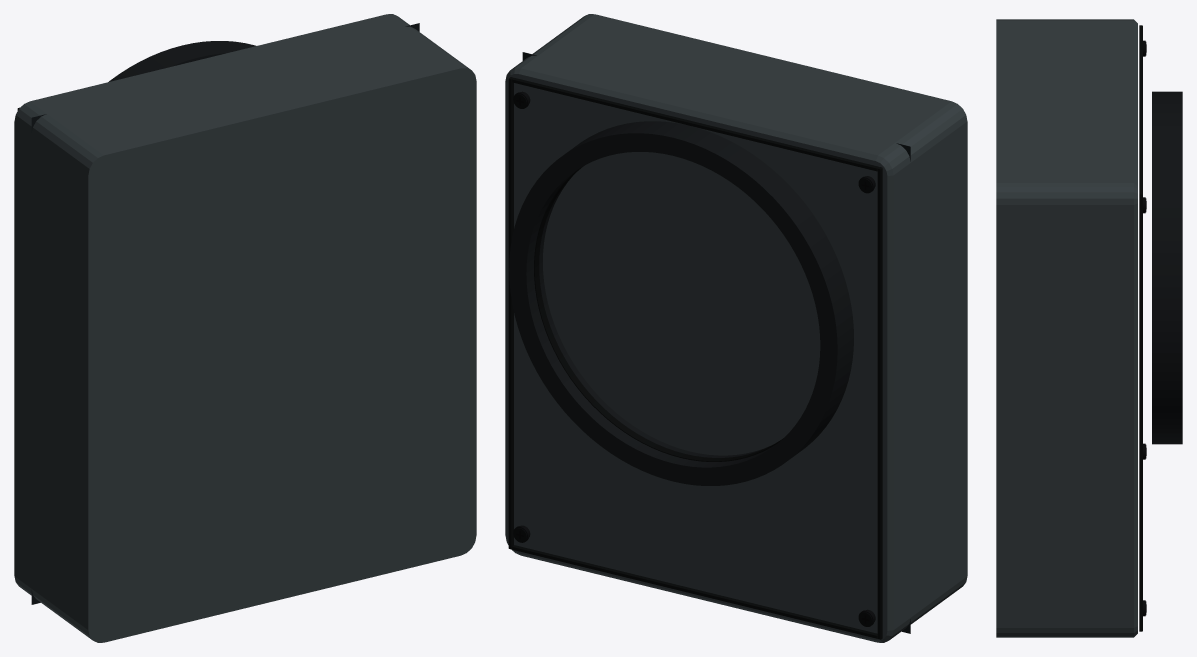
File: MFDStudio.obj
3 renders of one model, left to right at view 1: azimuth 30°, elevation 25°; view 2: azimuth 150°, elevation 25°; view 3: azimuth 270°, elevation 25°, orthographic. The views are drawn at different scales.
Visible parts, largest first — view 1: MFDStudioBody; view 2: MFDStudioBody, MFDStudioScrews; view 3: MFDStudioBody.
Part boxes in pixels (x1,y1,x2,y2): MFDStudioBody: (14,14,476,642); MFDStudioBody: (505,14,967,642); MFDStudioScrews: (513,91,875,626); MFDStudioBody: (996,19,1182,637).
Size of the model in its own units: 0.15 by 0.18 by 0.067.
Materials: 9 (1 with a texture image).
